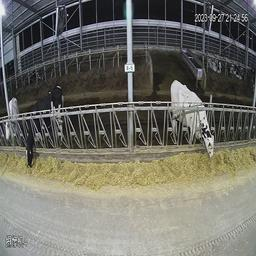cow: (170, 78, 216, 160), (24, 86, 66, 165), (3, 96, 21, 153), (207, 55, 221, 77), (230, 60, 244, 81)
